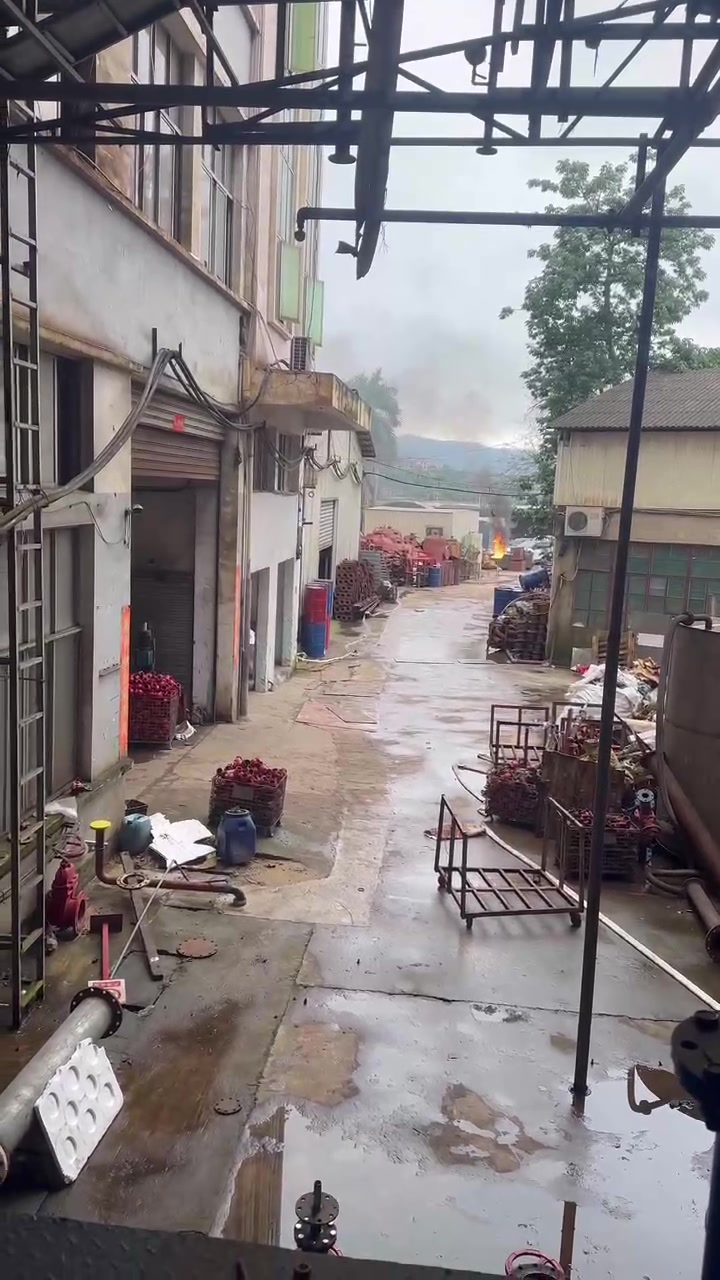fire: (490, 533, 505, 557)
